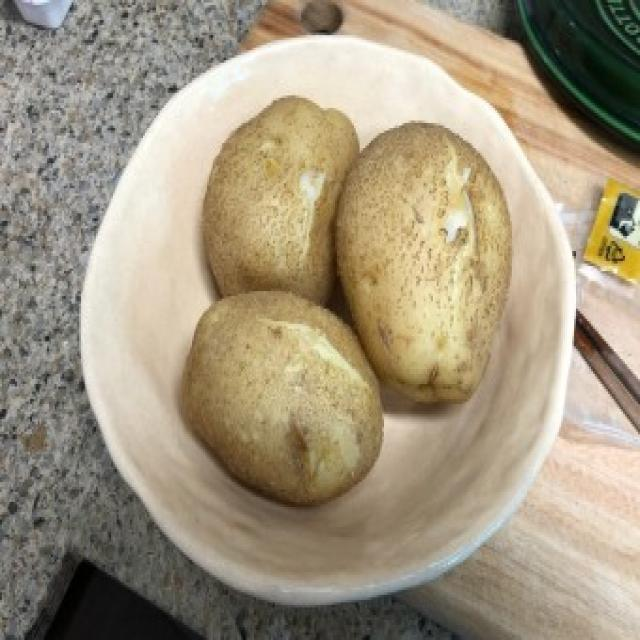potato: (335, 114, 513, 416), (176, 283, 386, 507), (202, 90, 362, 320)
